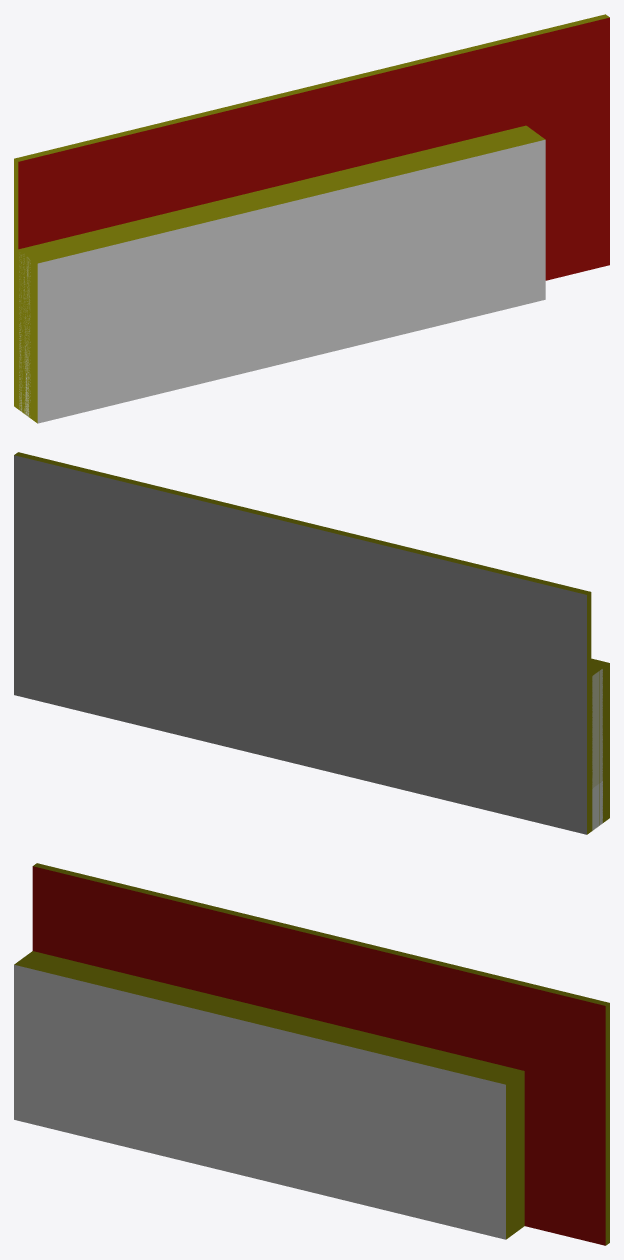
The model's file is idf.obj.
The picture shows the model from 3 angles, top to bottom: view 1: azimuth 30°, elevation 25°; view 2: azimuth 150°, elevation 25°; view 3: azimuth 330°, elevation 25°; orthographic projection. The views are drawn at different scales.
Size of the model in its own units: 70.71 by 28.28 by 4.9.
